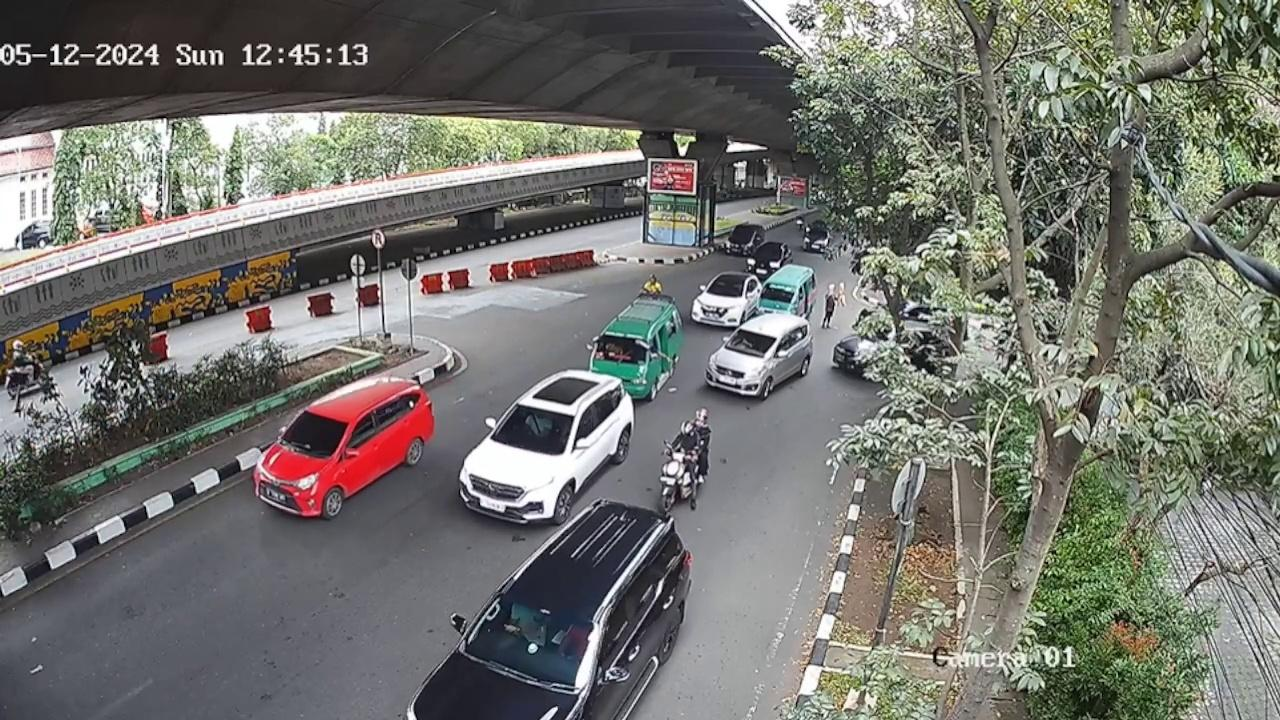pakai: (520, 409, 549, 438)
tidak-pakai: (502, 602, 543, 644), (563, 622, 589, 665)
windshield: (464, 594, 598, 690), (490, 402, 574, 455), (277, 406, 349, 459), (596, 330, 648, 367), (725, 326, 778, 360)
